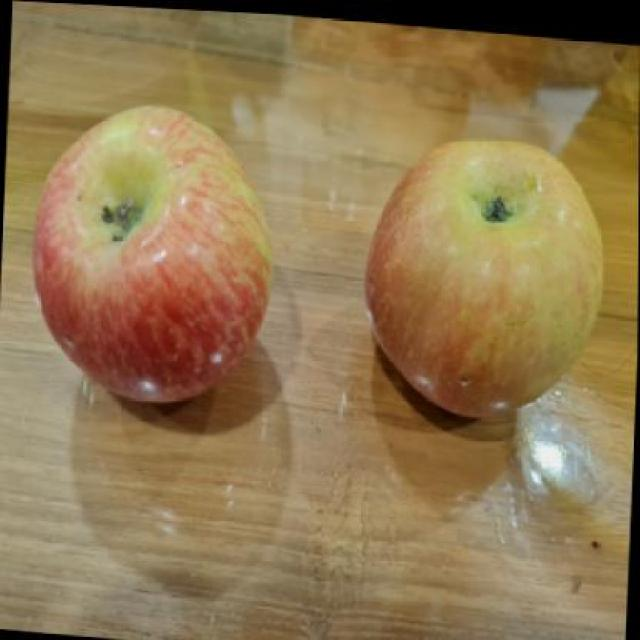Fresh Apple: (38, 106, 275, 422), (358, 135, 604, 431)
